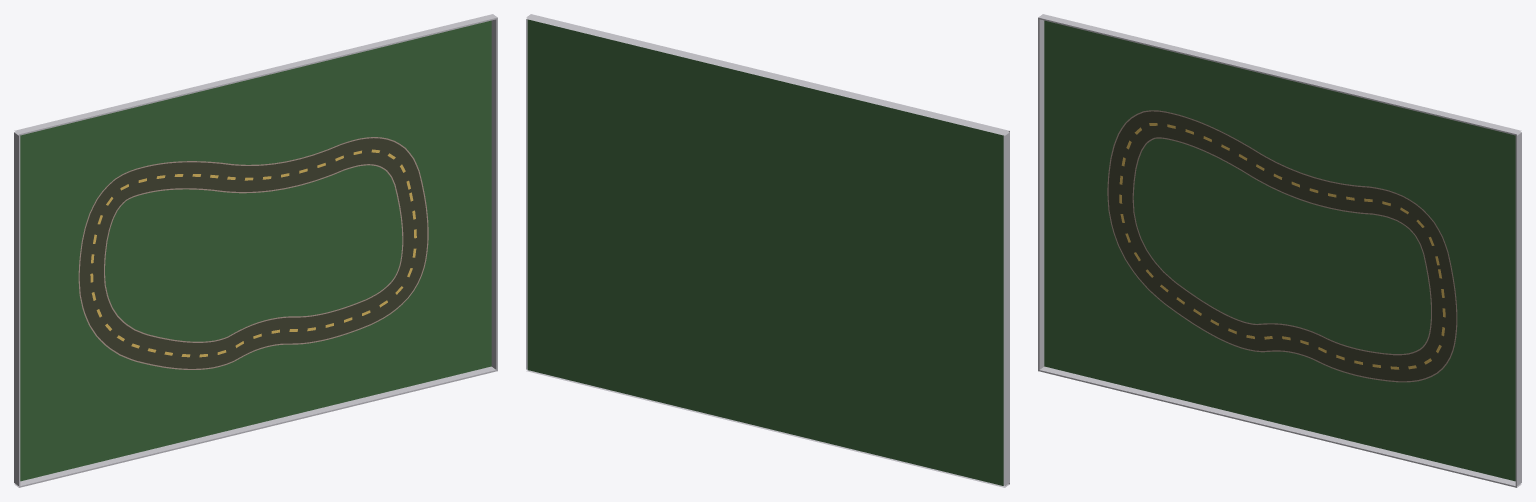
File: track.obj
3 renders of one model, left to right at view 1: azimuth 30°, elevation 25°; view 2: azimuth 150°, elevation 25°; view 3: azimuth 330°, elevation 25°, orthographic.
Size of the model in its own units: 17.08 by 12.05 by 0.3.
Materials: 5 (5 with a texture image).
